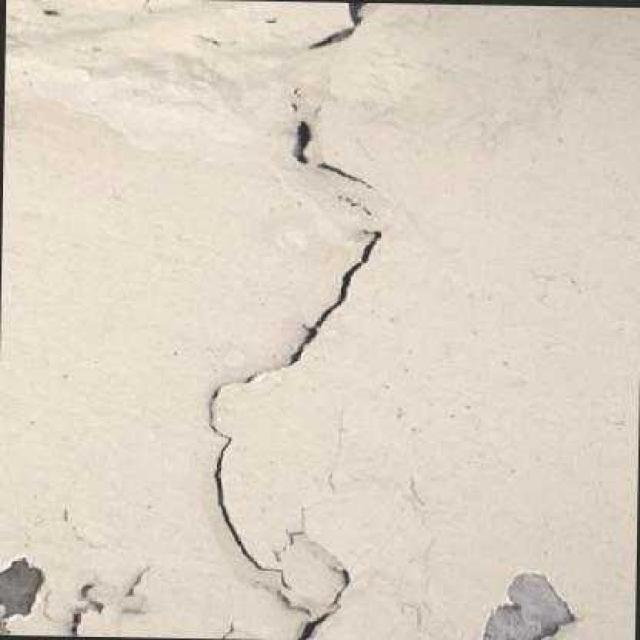D00: (202, 369, 288, 586), (275, 233, 387, 371), (289, 567, 356, 640), (306, 0, 377, 49), (320, 160, 372, 184), (287, 119, 317, 159)
